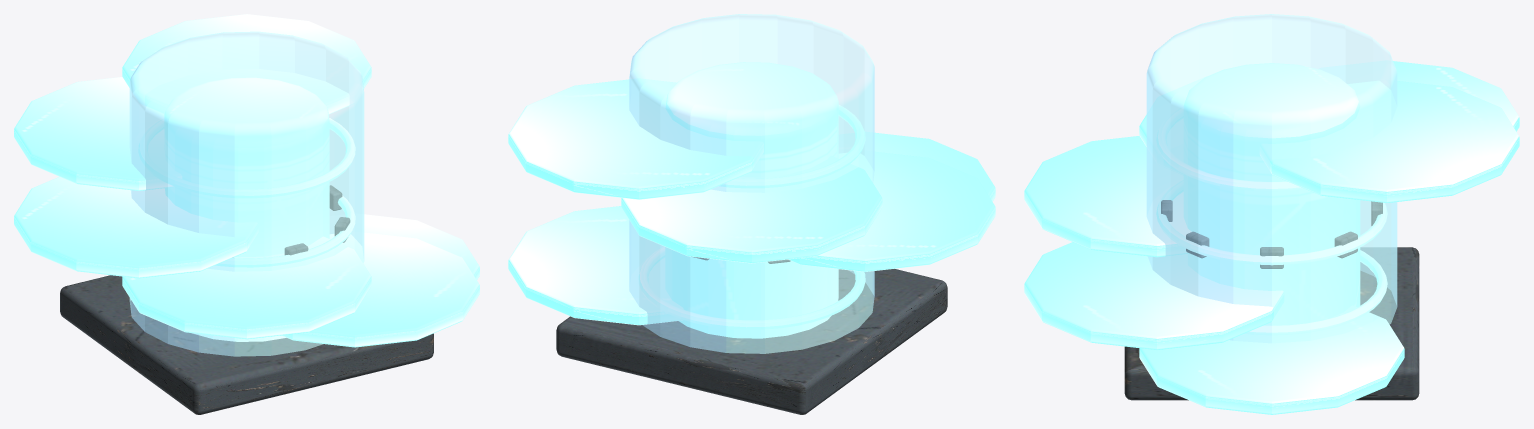
File: energy_core.glb
3 renders of one model, left to right at view 1: azimuth 30°, elevation 25°; view 2: azimuth 150°, elevation 25°; view 3: azimuth 270°, elevation 25°, orthographic. The views are drawn at different scales.
Visible parts, largest first — view 1: CoreHousing, CoreCylinder, CoreBase, CoreRing3, CoreRing5, CoreRing2, CoreRing4, CoreRing1, CoreHalo57, CoreRing0, CoreHalo35; view 2: CoreHousing, CoreBase, CoreCylinder, CoreRing5, CoreRing4, CoreRing0, CoreRing3, CoreHalo14, CoreRing2, CoreHalo57; view 3: CoreHousing, CoreCylinder, CoreRing5, CoreRing1, CoreRing0, CoreRing2, CoreBase, CoreRing4, CoreHalo35, CoreRing3, CoreHalo57, CoreHalo14.
Part boxes in pixels (x1=…): CoreHousing: x1=129, y1=31, x2=364, y2=356; CoreCylinder: x1=164, y1=77, x2=329, y2=341; CoreBase: x1=60, y1=275, x2=433, y2=414; CoreRing3: x1=14, y1=176, x2=258, y2=278; CoreRing5: x1=122, y1=14, x2=371, y2=114; CoreRing2: x1=122, y1=236, x2=371, y2=339; CoreRing4: x1=14, y1=77, x2=182, y2=190; CoreRing1: x1=281, y1=232, x2=479, y2=347; CoreHalo57: x1=138, y1=118, x2=355, y2=198; CoreRing0: x1=330, y1=214, x2=479, y2=279; CoreHalo35: x1=215, y1=195, x2=355, y2=267; CoreHousing: x1=629, y1=14, x2=874, y2=353; CoreBase: x1=556, y1=269, x2=947, y2=414; CoreCylinder: x1=665, y1=62, x2=838, y2=338; CoreRing5: x1=508, y1=79, x2=763, y2=199; CoreRing4: x1=621, y1=156, x2=882, y2=263; CoreRing0: x1=508, y1=206, x2=683, y2=325; CoreRing3: x1=788, y1=151, x2=995, y2=271; CoreHalo14: x1=638, y1=246, x2=865, y2=329; CoreRing2: x1=839, y1=132, x2=995, y2=201; CoreHalo57: x1=719, y1=105, x2=865, y2=188; CoreHousing: x1=1146, y1=14, x2=1397, y2=343; CoreCylinder: x1=1183, y1=63, x2=1360, y2=325; CoreRing5: x1=1259, y1=80, x2=1519, y2=202; CoreRing1: x1=1024, y1=242, x2=1284, y2=349; CoreRing0: x1=1139, y1=305, x2=1404, y2=414; CoreRing2: x1=1024, y1=136, x2=1191, y2=257; CoreBase: x1=1124, y1=247, x2=1419, y2=400; CoreRing4: x1=1320, y1=61, x2=1519, y2=131; CoreHalo35: x1=1156, y1=180, x2=1387, y2=265; CoreRing3: x1=1139, y1=78, x2=1202, y2=174; CoreHalo57: x1=1156, y1=106, x2=1305, y2=191; CoreHalo14: x1=1245, y1=250, x2=1387, y2=335.
Size of the model in its own units: 14.4 by 8.3 by 13.44.
4 materials, 3 textured.
